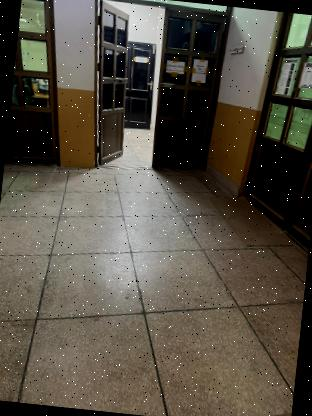door: (71, 0, 235, 181)
